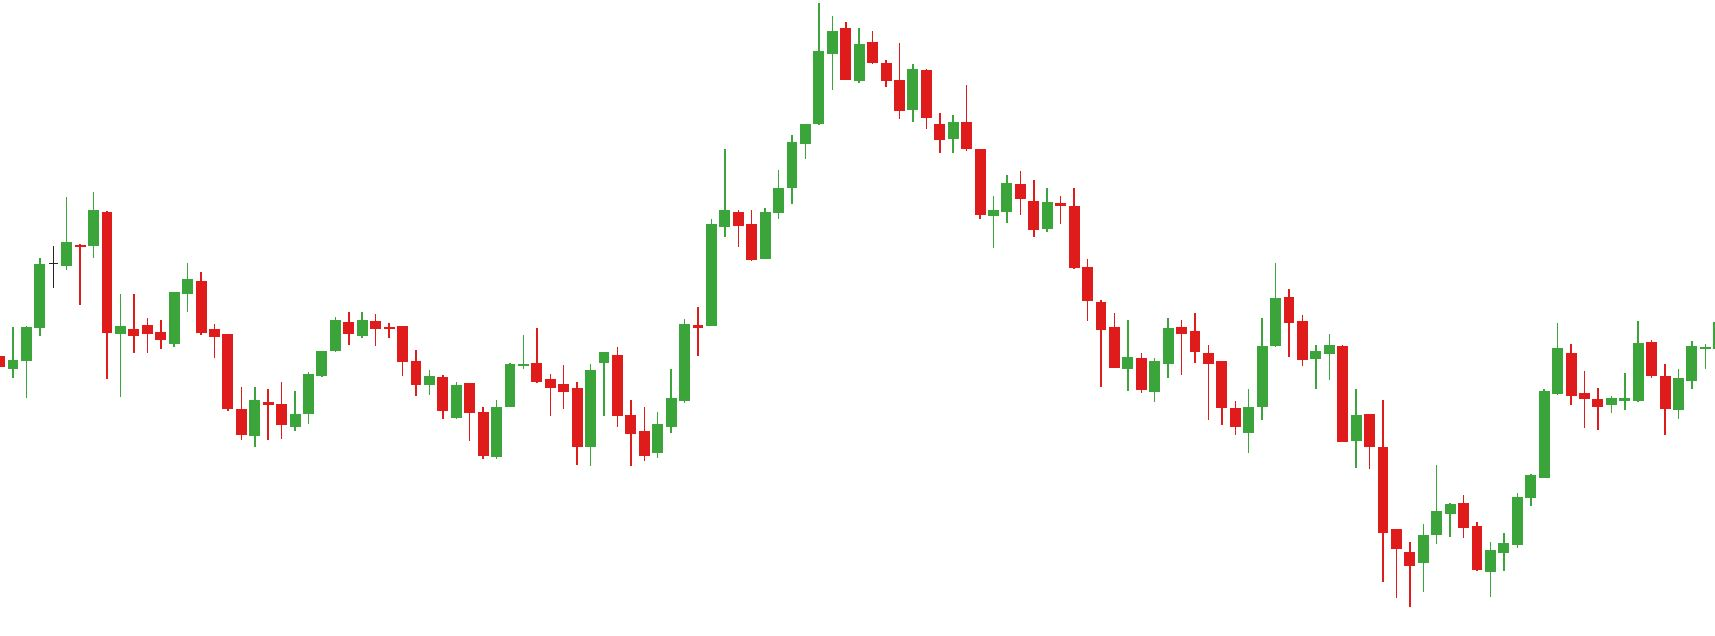buy: (475, 366, 596, 469), (1417, 504, 1497, 598)
sell: (1176, 261, 1297, 375)
